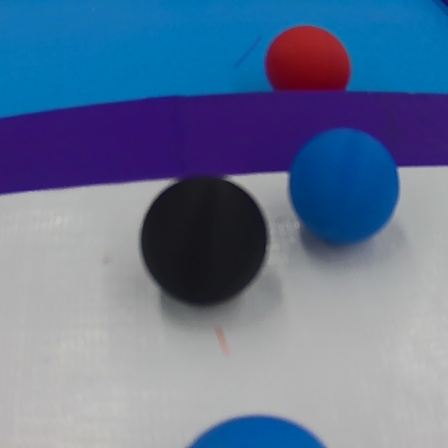black: (138, 175, 271, 307)
blue: (285, 123, 402, 248)
blue_aim: (0, 0, 447, 202)
red: (262, 23, 353, 104)
